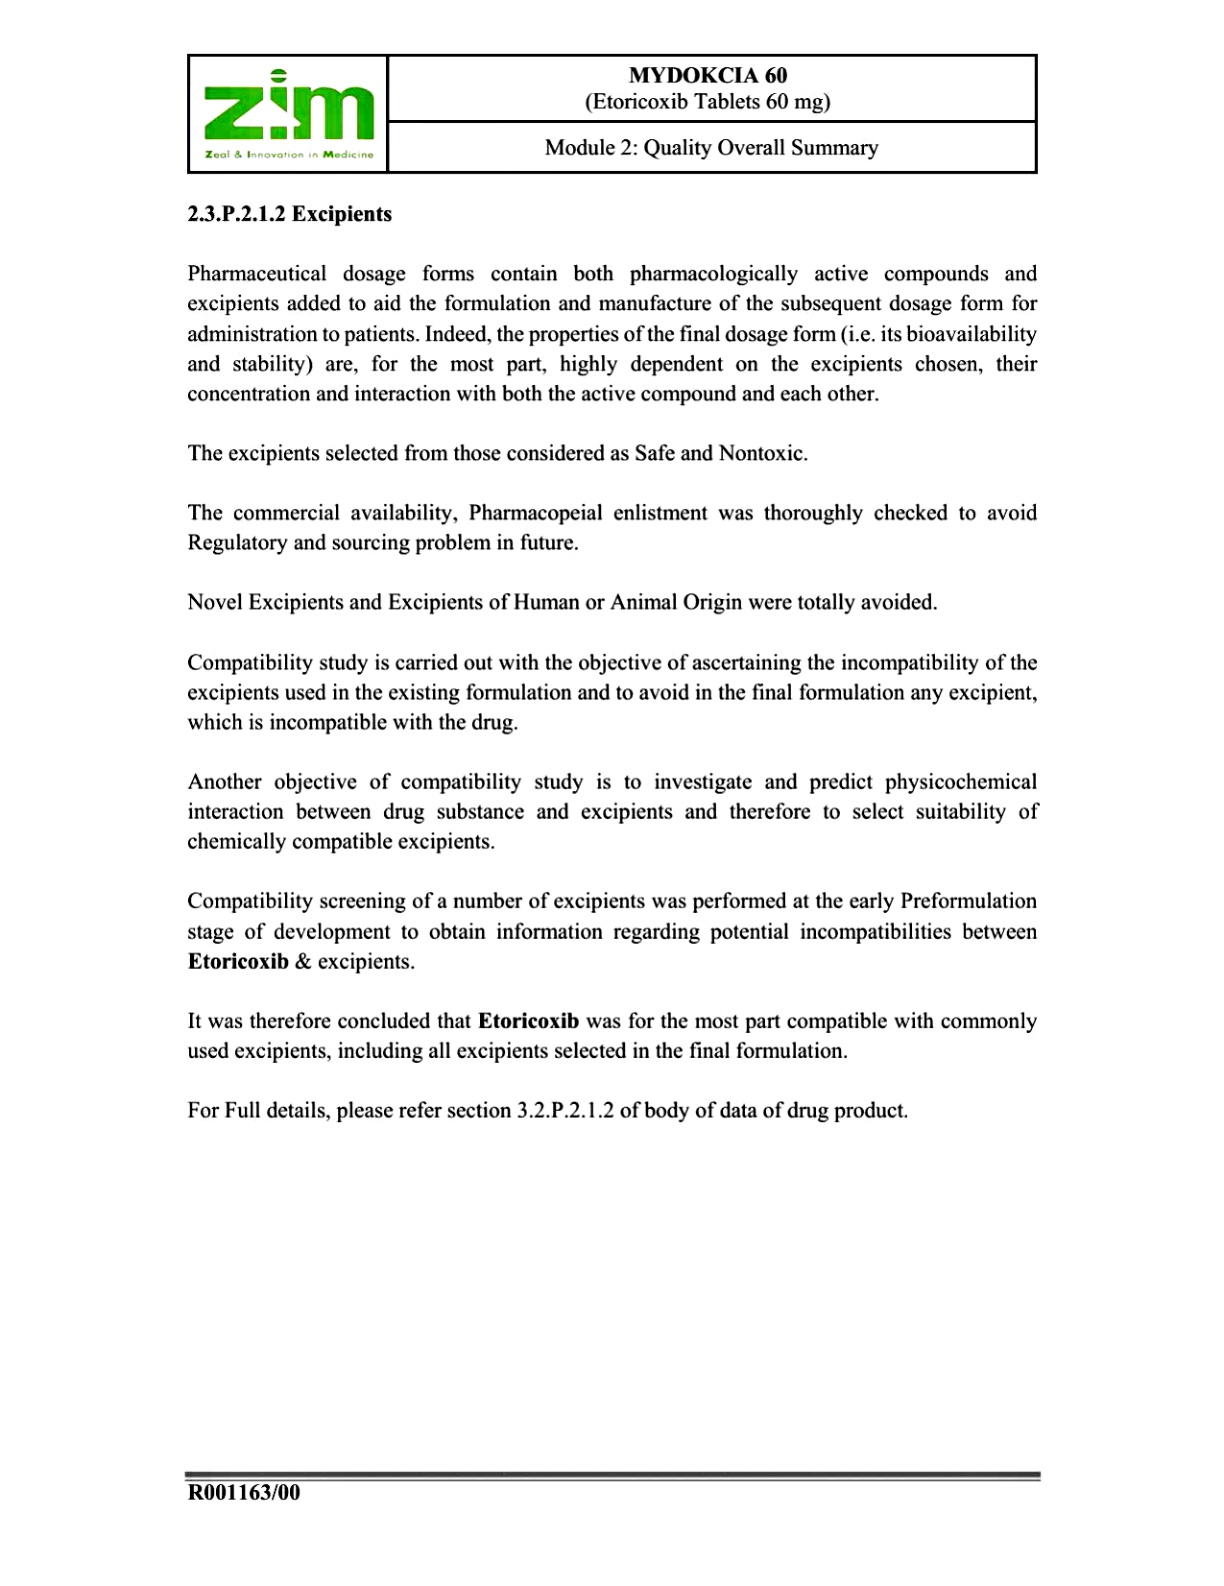merged_cells: (186, 53, 1040, 175)
